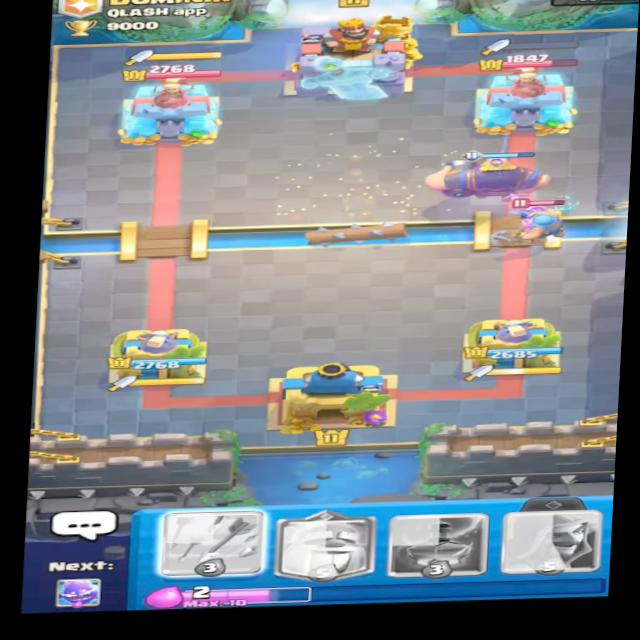little-prince: (504, 184, 564, 232)
